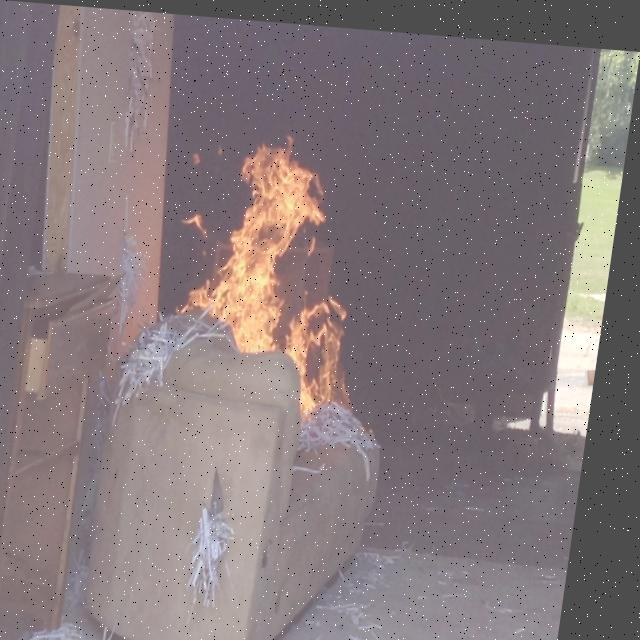Fire: (176, 125, 384, 418)
